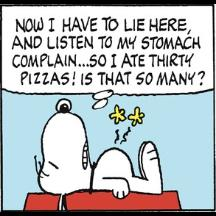snoopy: (33, 97, 164, 212)
